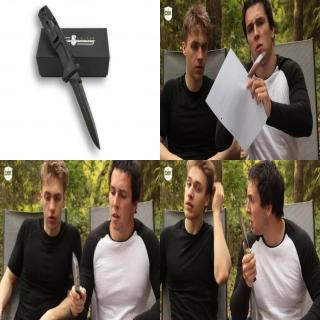knife: (59, 58, 102, 152), (235, 200, 256, 268), (68, 248, 86, 306), (245, 48, 269, 80)
